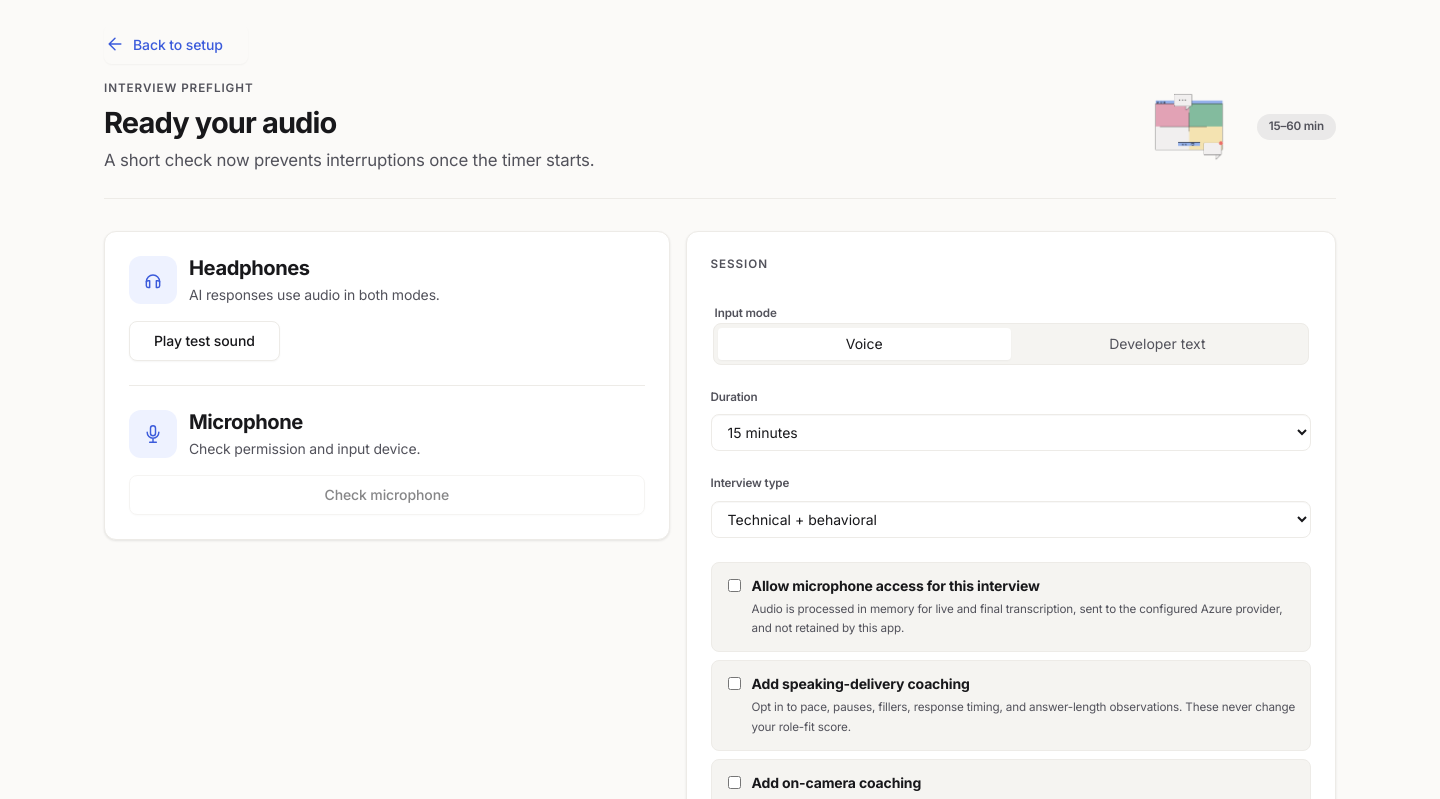
Test: Realtime practice room › stops an acquired microphone track when text mode is selected
Click the checkbox labelled "Allow microphone access for this interview". click: [734, 585]
box: [728,578,741,592]
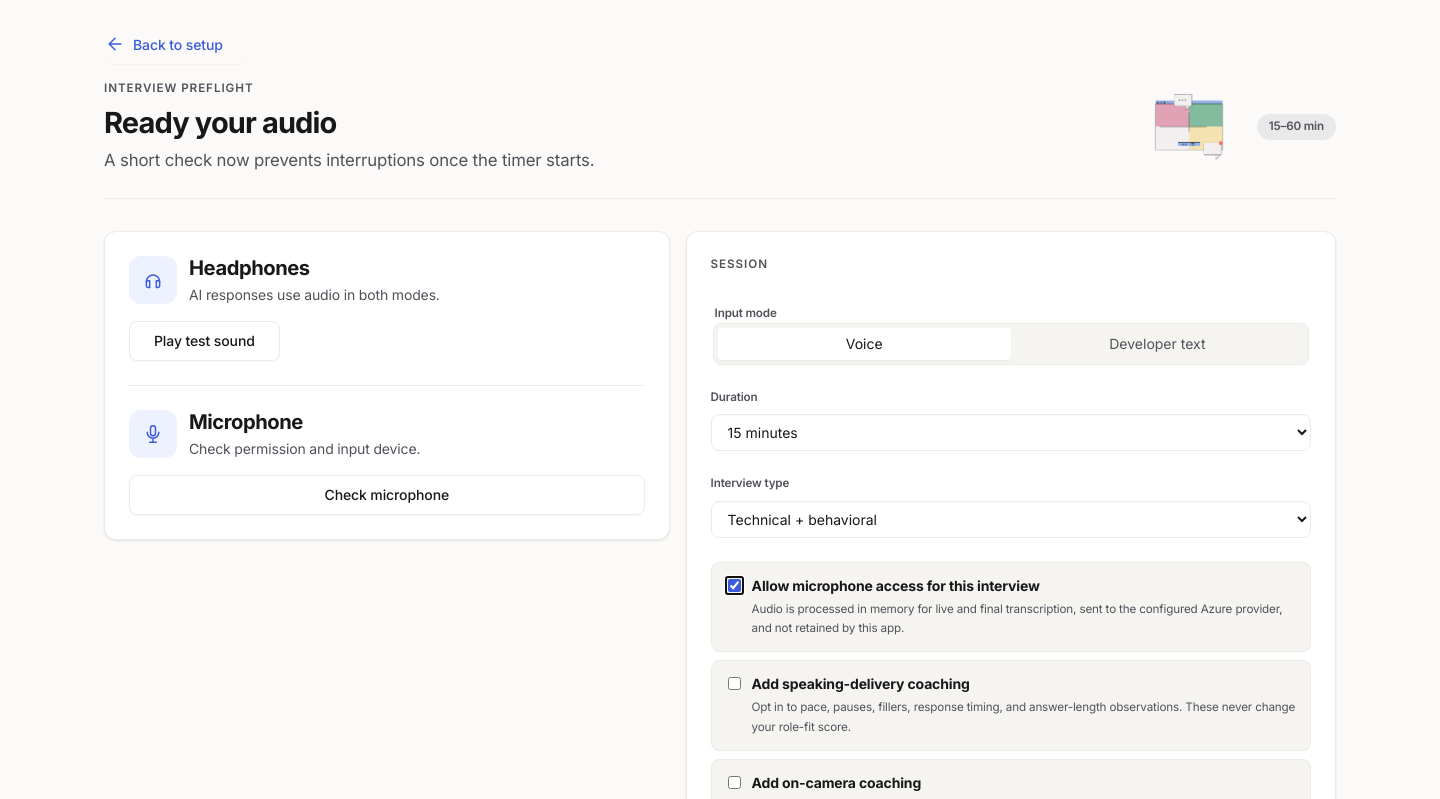
Click the button "Check microphone". click: [387, 495]
box: [129,475,645,515]
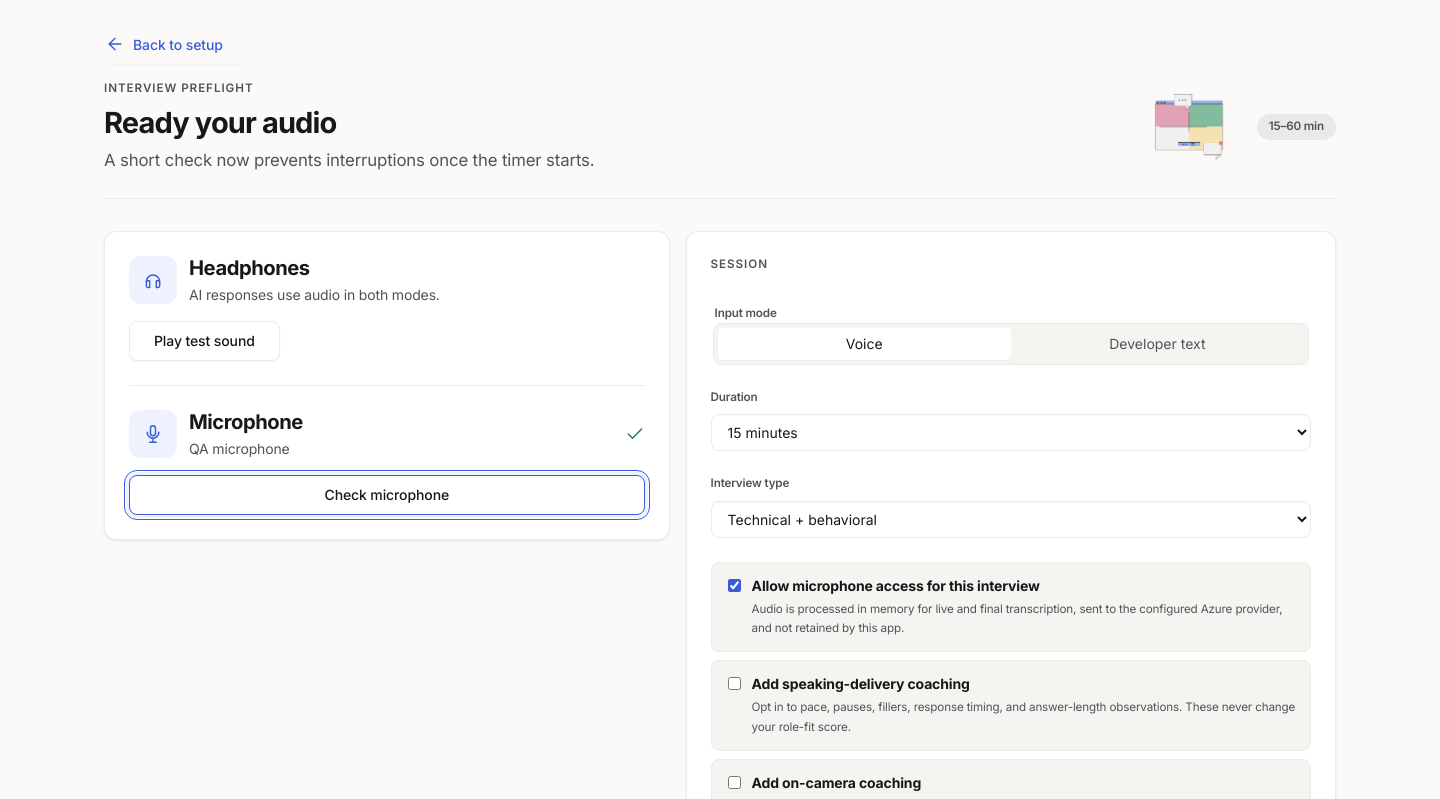
Check: the text "QA microphone" is shown, box [189,440,290,457]
Click the button "Developer text". click: [1157, 344]
box: [1011,328,1304,360]
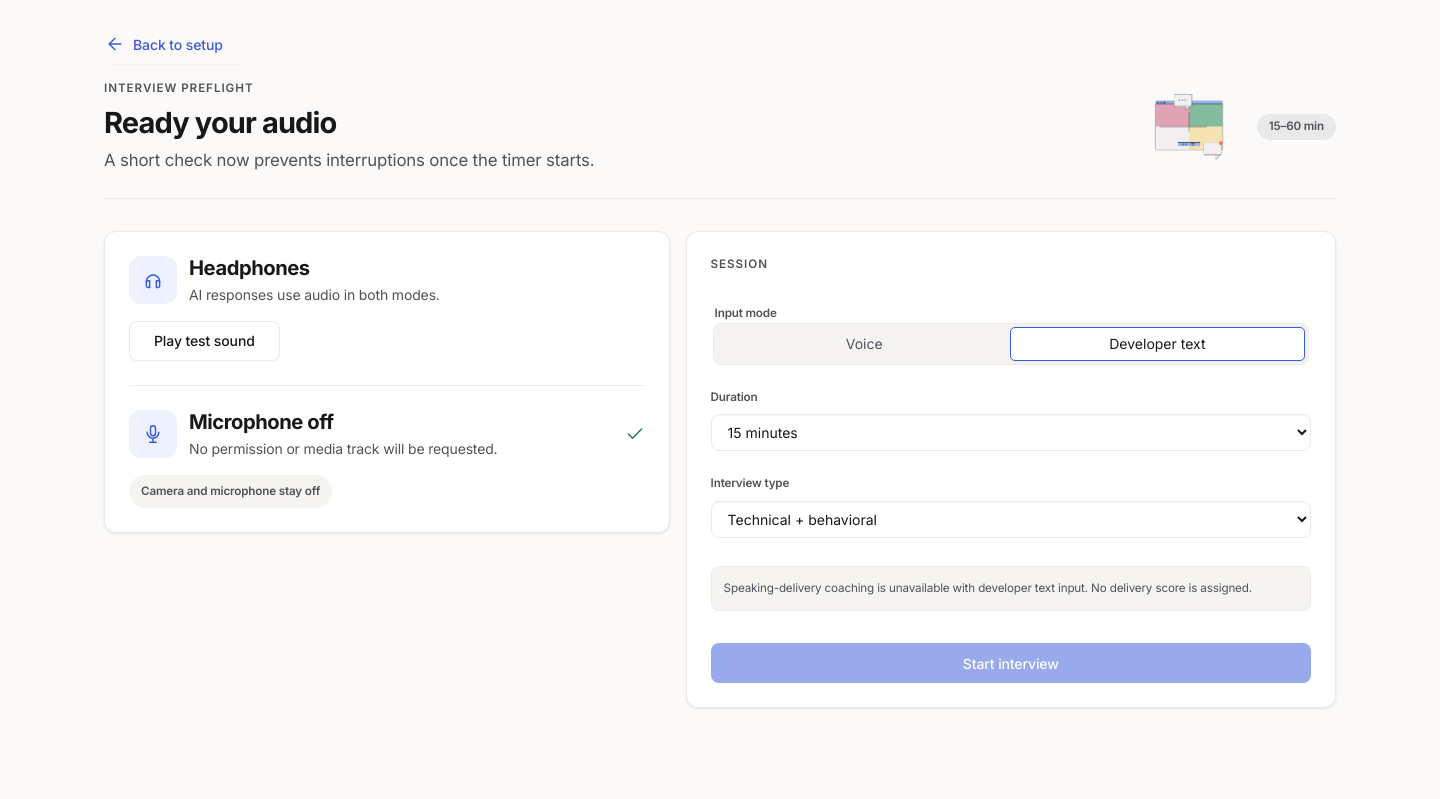
Check: the heading "Microphone off" is shown, box [189,409,334,434]
